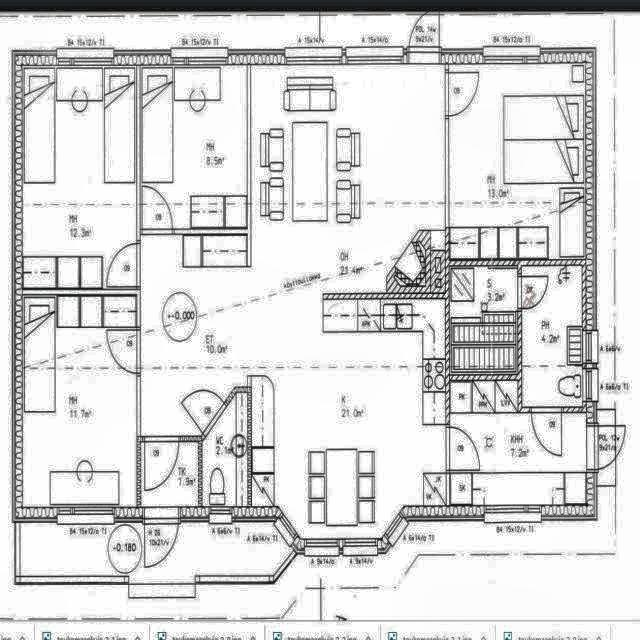room: (449, 62, 586, 260), (22, 66, 137, 289), (23, 295, 137, 508), (141, 66, 247, 230), (450, 380, 587, 505), (521, 266, 583, 407), (202, 393, 248, 506), (140, 442, 198, 507)
